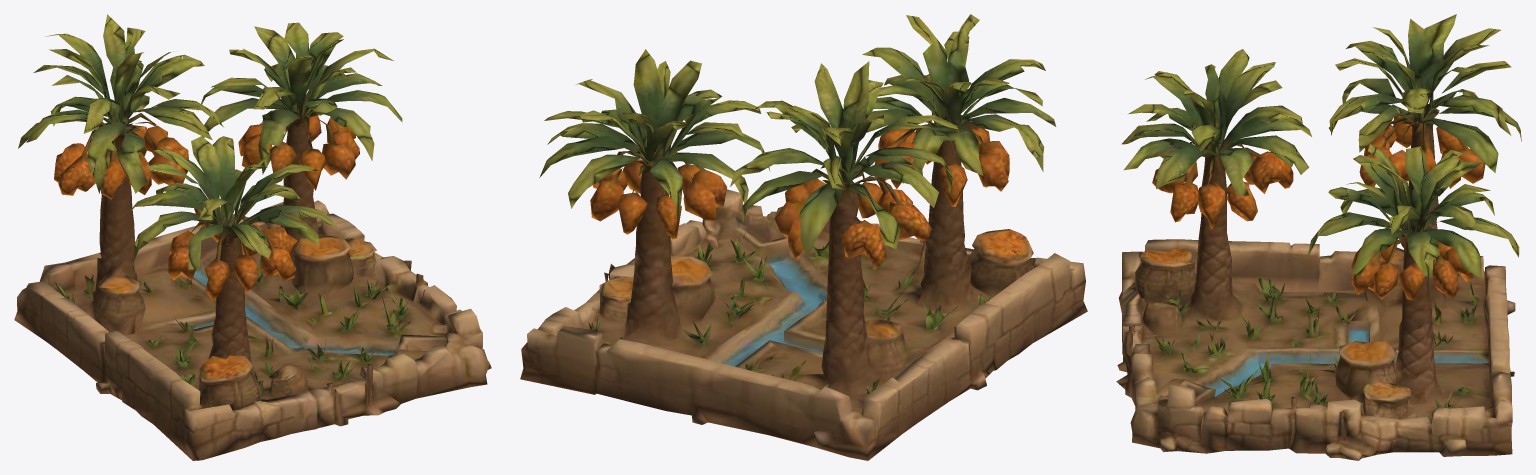
The model's file is farm.glb.
3 renders of one model, left to right at view 1: azimuth 30°, elevation 25°; view 2: azimuth 150°, elevation 25°; view 3: azimuth 270°, elevation 25°, orthographic. The views are drawn at different scales.
Parts seen in each view (by area): view 1: tripo_node_47f7e23c-4b03-4026-8510-93f691dd5bdf; view 2: tripo_node_47f7e23c-4b03-4026-8510-93f691dd5bdf; view 3: tripo_node_47f7e23c-4b03-4026-8510-93f691dd5bdf.
Boxes of the visible parts, box(x1,y1,x2,y2) form: tripo_node_47f7e23c-4b03-4026-8510-93f691dd5bdf: box(14, 14, 491, 460); tripo_node_47f7e23c-4b03-4026-8510-93f691dd5bdf: box(520, 14, 1087, 460); tripo_node_47f7e23c-4b03-4026-8510-93f691dd5bdf: box(1116, 14, 1521, 460).
Size of the model in its own units: 0.9869 by 0.8031 by 0.9698.
1 material, 1 textured.
